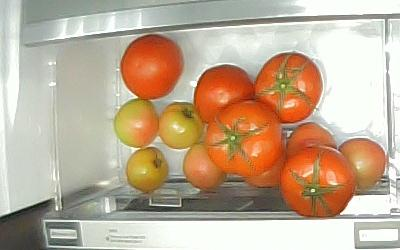tomato: (204, 100, 284, 178), (279, 145, 352, 218), (253, 50, 322, 124), (121, 34, 184, 100), (193, 65, 254, 125), (338, 139, 386, 191), (158, 102, 204, 150), (114, 99, 159, 147), (183, 144, 228, 190), (126, 148, 170, 192), (286, 122, 336, 158)
